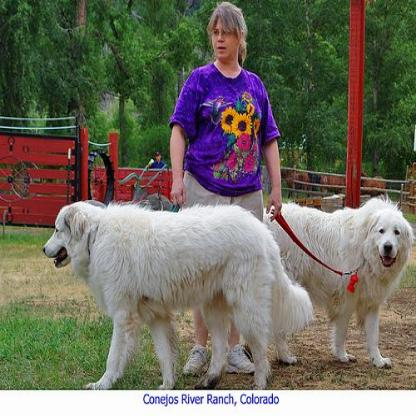Great_Pyrenees: (38, 195, 315, 387), (260, 180, 410, 373)
